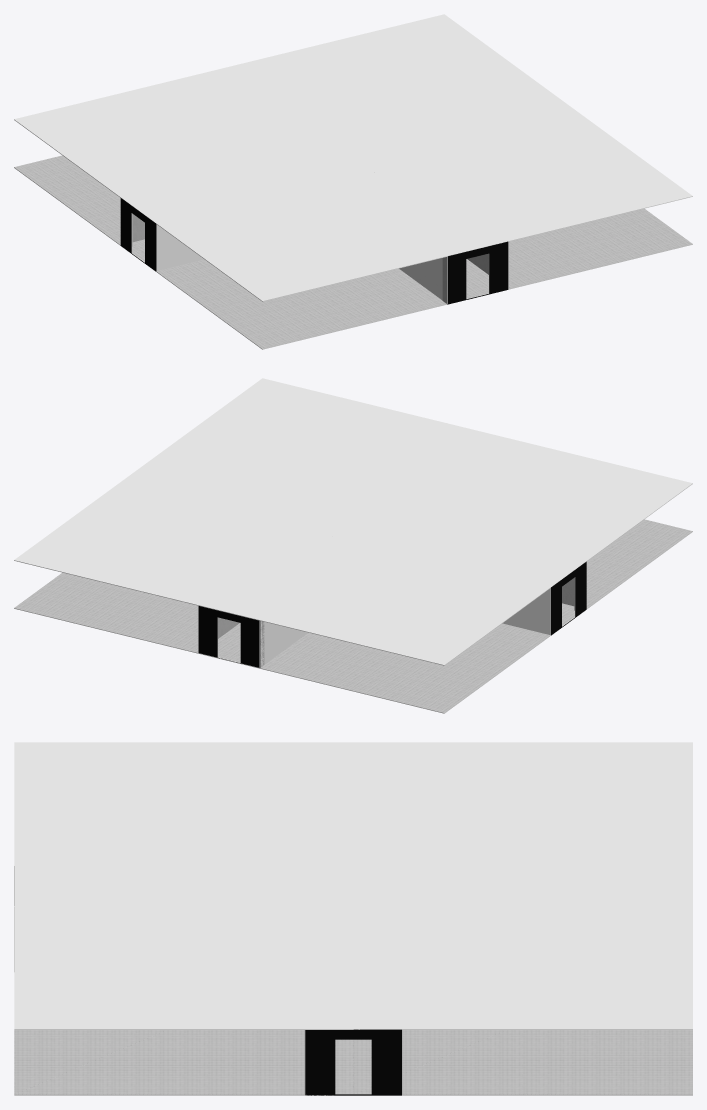
Rendered from XCross_V3.fbx.
3 views of the same model, one above another, from view 1: azimuth 30°, elevation 25°; view 2: azimuth 150°, elevation 25°; view 3: azimuth 270°, elevation 25° (orthographic). The views are drawn at different scales.
Visible parts, largest first — view 1: node_id42, node_id39, node_id36, node_id33, node_id51, node_id54, node_id45, node_id81, node_id12, node_id18, node_id75; view 2: node_id36, node_id33, node_id42, node_id39, node_id45, node_id48, node_id51, node_id78, node_id66, node_id69, node_id12; view 3: node_id39, node_id33, node_id36, node_id42, node_id54 (×2), node_id48 (×2), node_id15.
Boxes of the visible parts, x1,y1,x2,y2 form: node_id42: (138,157,477,301); node_id39: (354,105,692,248); node_id36: (14,67,352,209); node_id33: (229,14,568,157); node_id51: (139,256,476,348); node_id54: (466,208,692,296); node_id45: (14,155,144,257); node_id81: (447,241,508,304); node_id12: (120,198,156,271); node_id18: (156,185,309,270); node_id75: (399,238,447,304); node_id36: (229,521,568,665); node_id33: (14,469,352,612); node_id42: (354,431,692,573); node_id39: (138,378,477,521); node_id45: (230,620,567,712); node_id48: (14,572,240,659); node_id51: (562,519,692,621); node_id78: (198,606,260,667); node_id66: (422,555,550,634); node_id69: (259,564,335,668); node_id12: (551,561,586,635); node_id39: (14,885,353,1029); node_id33: (353,885,692,1029); node_id36: (353,742,692,885); node_id42: (14,742,353,885); node_id54 (×2): (14,1030,353,1095); node_id48 (×2): (353,1030,692,1095); node_id15: (305,1029,401,1095).
Bounding box in the file's own units: 0.512 × 0.0552 × 0.5123.
Materials: 56 (32 with a texture image).
